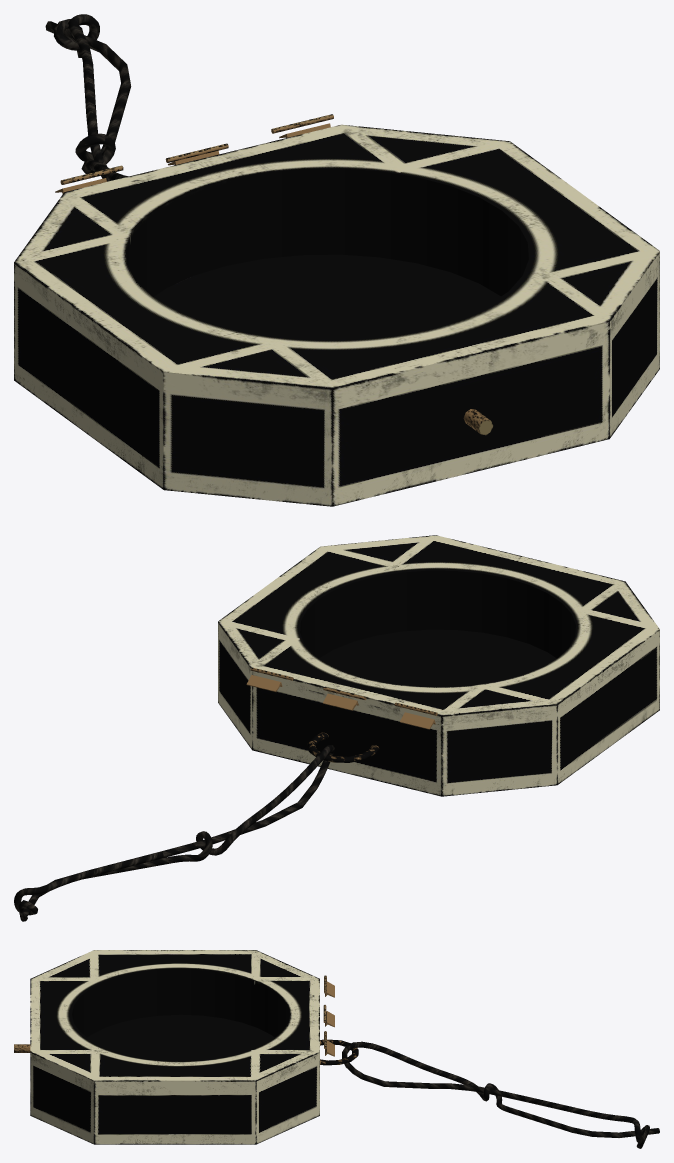
Rendered from Compas part 2.fbx.
3 views of the same model, one above another, from view 1: azimuth 30°, elevation 25°; view 2: azimuth 150°, elevation 25°; view 3: azimuth 270°, elevation 25° (orthographic). The views are drawn at different scales.
Visible parts, largest first — view 1: Cube, NurbsPath, Cylinder.006, Cylinder.009; view 2: Cube, NurbsPath, Cylinder.009, Torus; view 3: Cube, NurbsPath, Torus, Cylinder.009.
Part boxes in pixels (<box>): Cube: <box>14,124,659,506</box>; NurbsPath: <box>45,14,131,181</box>; Cylinder.006: <box>60,114,333,184</box>; Cylinder.009: <box>55,123,330,193</box>; Cube: <box>218,535,659,796</box>; NurbsPath: <box>14,745,334,921</box>; Cylinder.009: <box>246,675,435,729</box>; Torus: <box>307,732,379,762</box>; Cube: <box>30,950,319,1144</box>; NurbsPath: <box>342,1041,659,1148</box>; Torus: <box>320,1039,358,1065</box>; Cylinder.009: <box>325,981,334,1056</box>.
Size of the model in its own units: 214 by 69 by 446.
6 materials, 6 textured.
